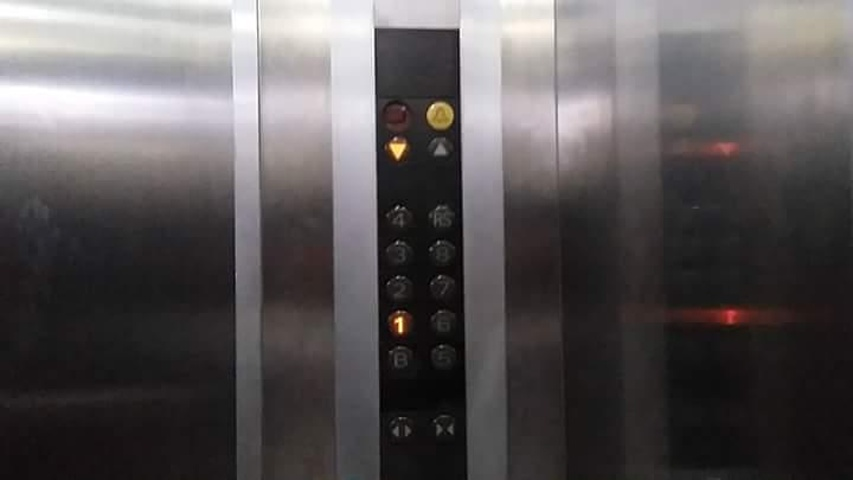1: (384, 309, 416, 342)
2: (382, 276, 417, 308)
3: (383, 237, 414, 270)
4: (384, 202, 414, 235)
5: (427, 343, 460, 374)
6: (428, 307, 460, 341)
8: (426, 272, 459, 306), (425, 243, 455, 270)
B: (384, 344, 416, 374)
RS: (422, 201, 460, 238)
alarm: (423, 97, 458, 133)
blur: (382, 99, 411, 135)
close: (427, 411, 461, 447)
down: (385, 136, 411, 168)
open: (382, 413, 420, 449)
up: (426, 136, 454, 167)
